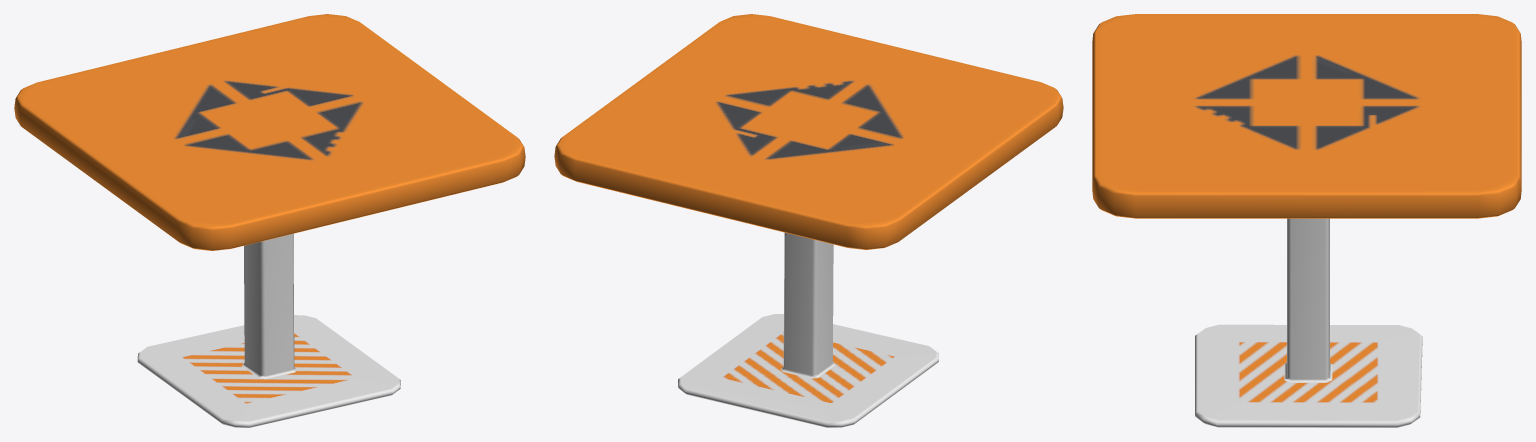
File: Mesh_Resto_table_carre.fbx
3 renders of one model, left to right at view 1: azimuth 30°, elevation 25°; view 2: azimuth 150°, elevation 25°; view 3: azimuth 270°, elevation 25°, orthographic. The views are drawn at different scales.
Parts seen in each view (by area): view 1: table_carre; view 2: table_carre; view 3: table_carre.
Boxes of the visible parts, bbox=[...] form: table_carre: bbox=[14, 14, 525, 427]; table_carre: bbox=[554, 14, 1063, 427]; table_carre: bbox=[1092, 14, 1521, 427].
Bounding box in the file's own units: 52.71 × 37.68 × 52.71.
